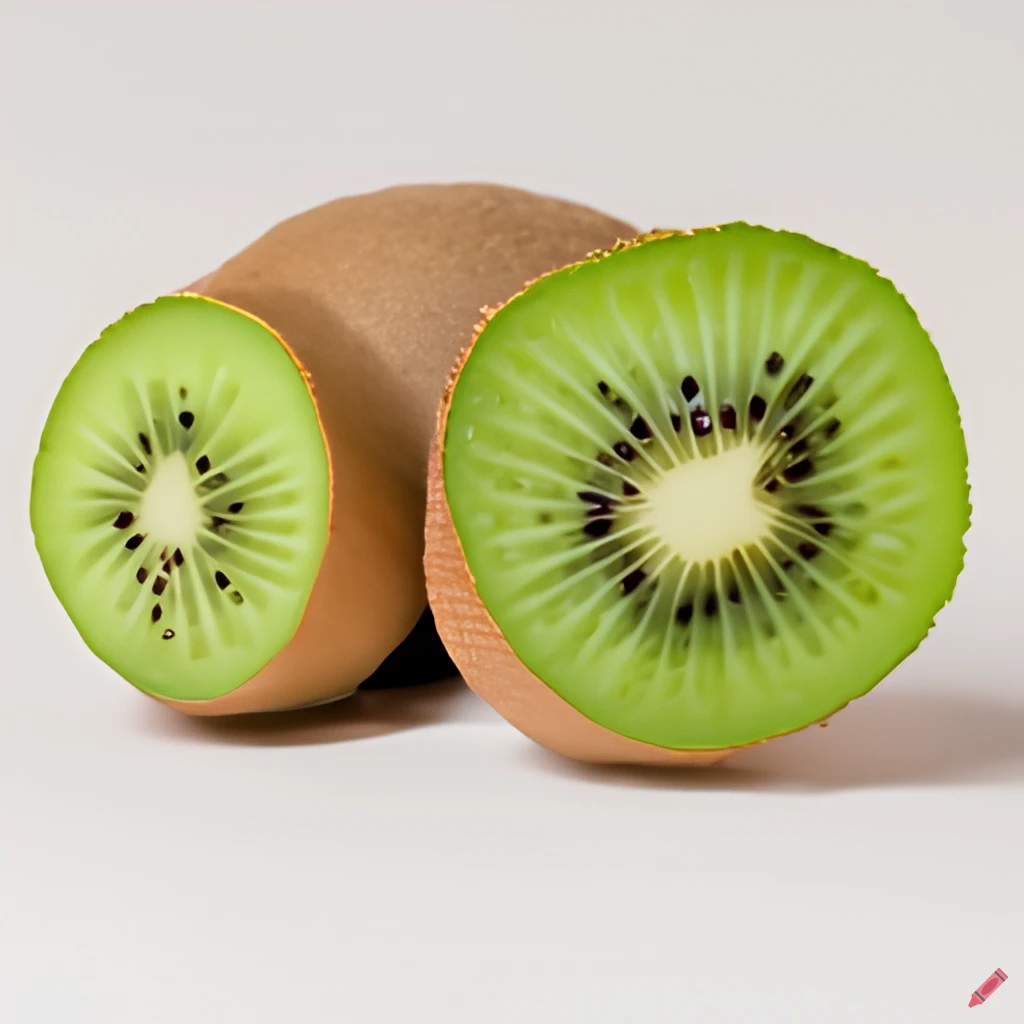Kiwi: (398, 162, 976, 796)
